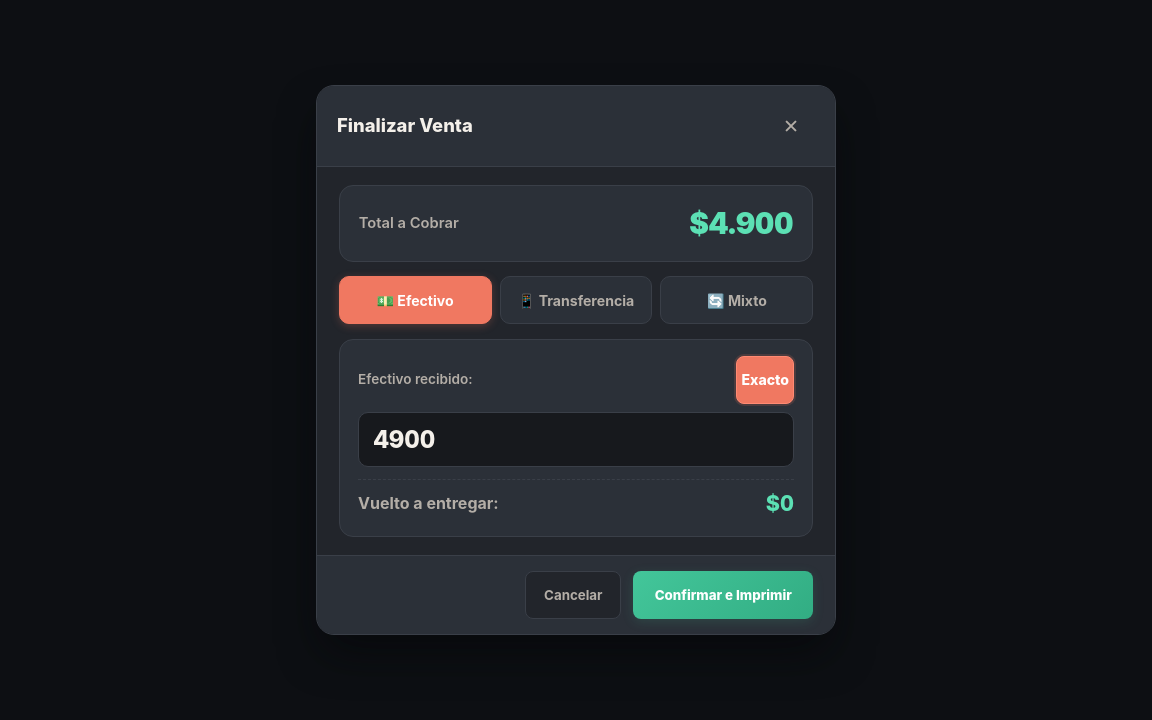
Scenario: PaymentModal — Cobro en Efectivo y Cálculo de Vuelto (Caja Registradora) › 3. Total $4.900, Efectivo $10.000: vuelto $5.100 y cobro habilitado
The width and height of the screenshot is (1152, 720).
Replace the text in the number field with test id "input-efectivo-recibido" with "10000" at (576, 439), box top-left (358, 412), bottom-right (794, 467)
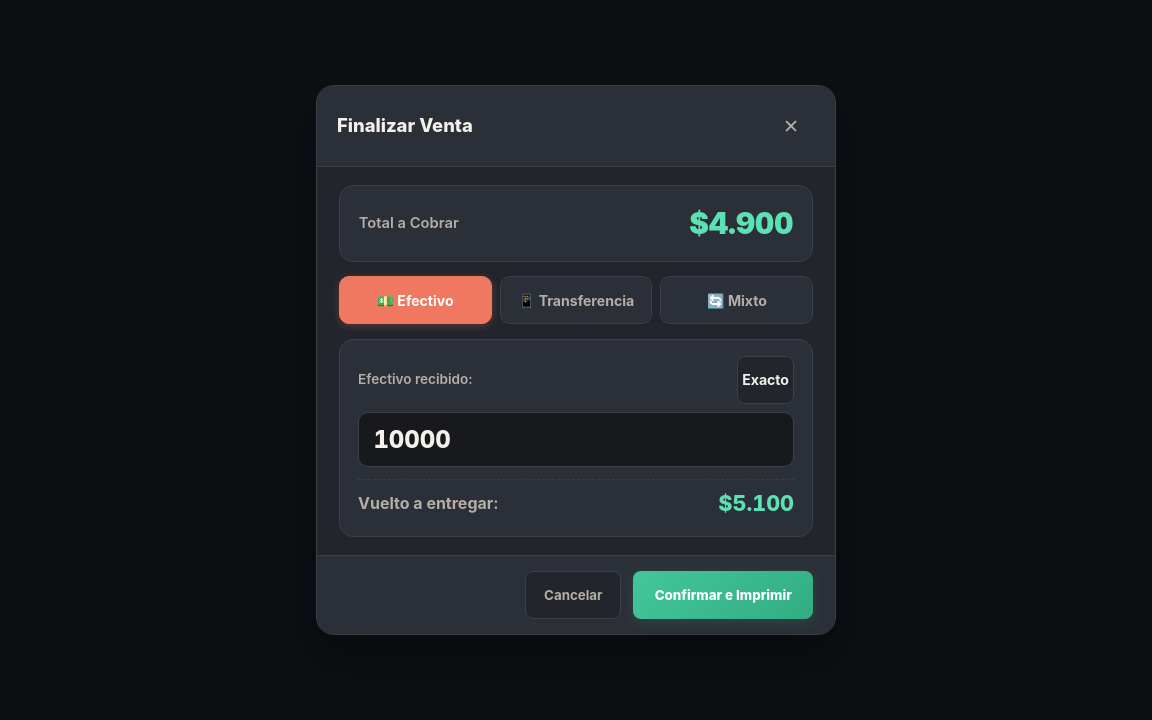
Expected: the button with test id "btn-confirm-payment" is enabled, top-left (633, 571), bottom-right (813, 619)
Result: the text with test id "change-amount" reads "$5.100" at top-left (718, 490), bottom-right (794, 516)
